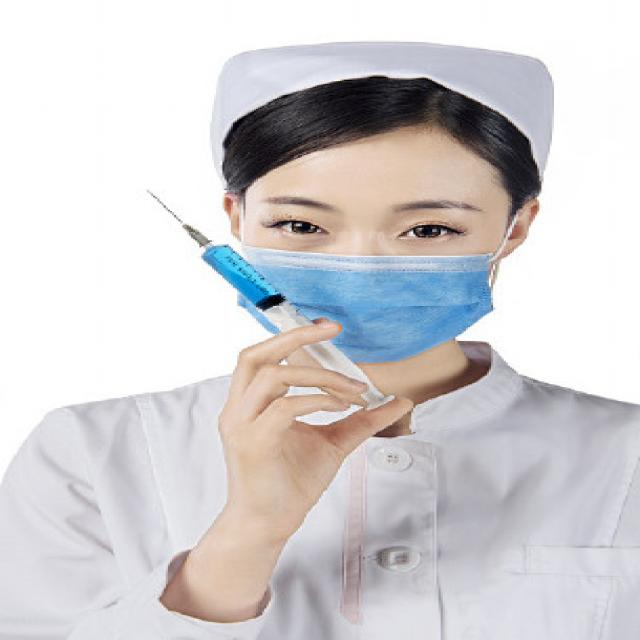mask: (234, 144, 496, 358)
